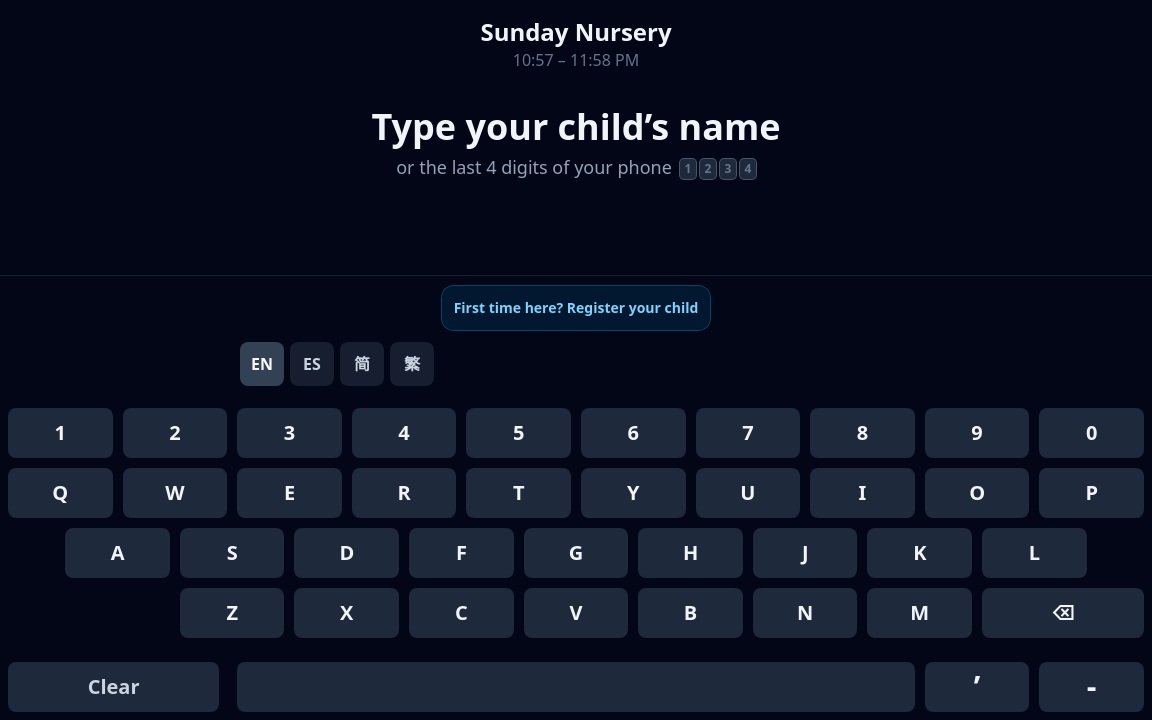
the silent sweep for somebody the cached roster does not hold › sweeps at once for four digits, which are finished by construction
Press the mouse on the button "9" at (977, 433), box [925,408,1029,458]
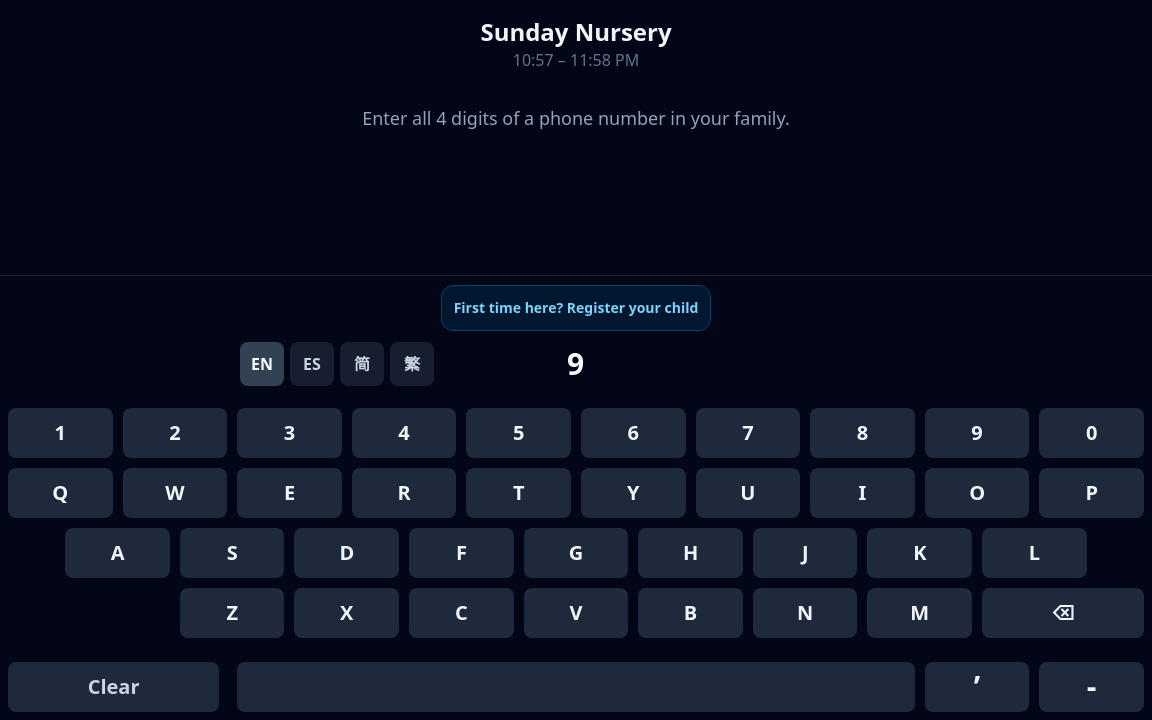
Press the mouse on the button "9" at (977, 433), box [925,408,1029,458]
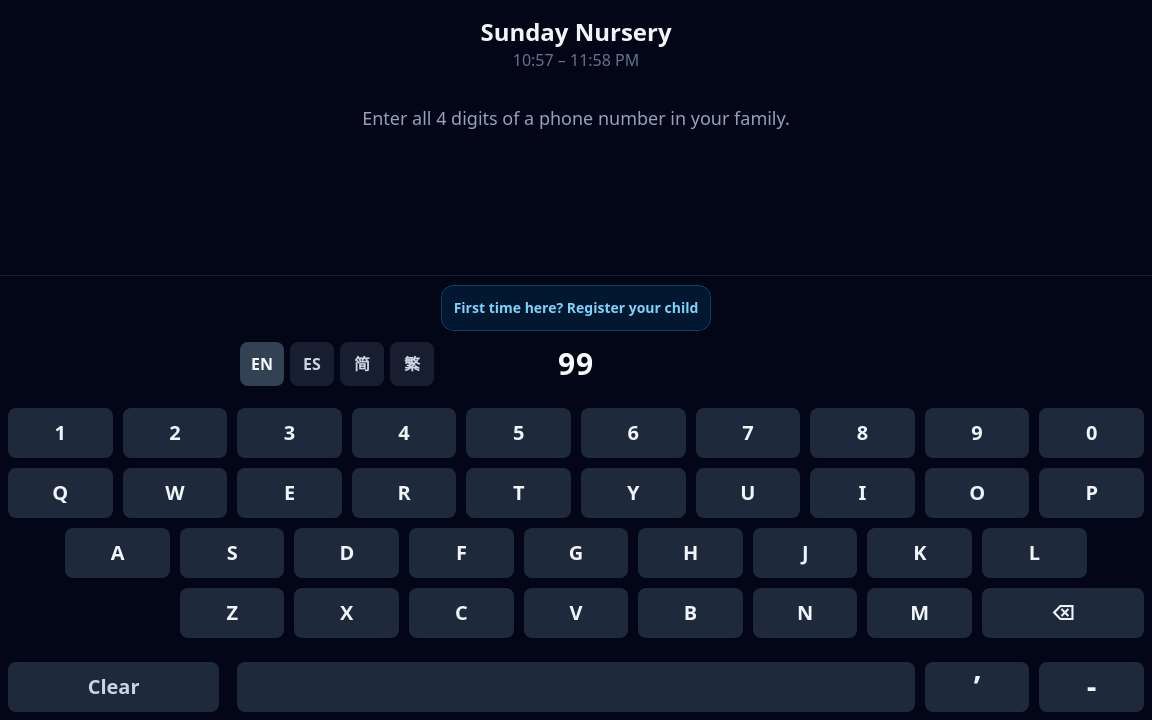
Press the mouse on the button "1" at (60, 433), box [8,408,113,458]
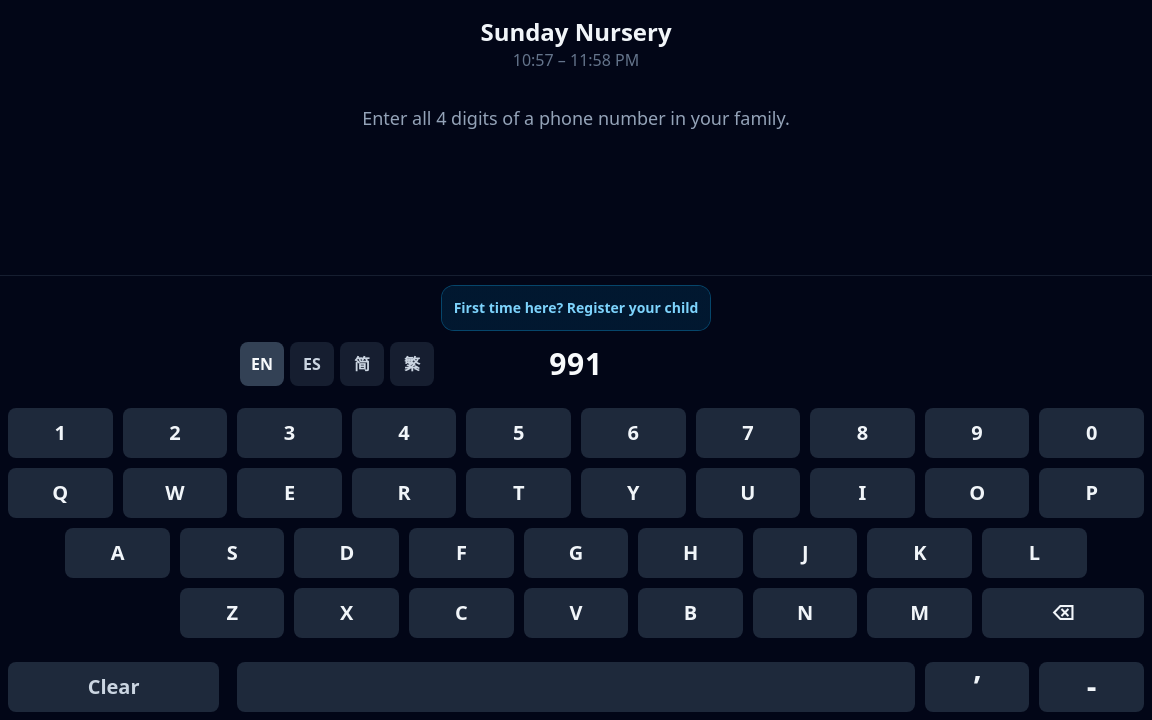
Press the mouse on the button "1" at (60, 433), box [8,408,113,458]
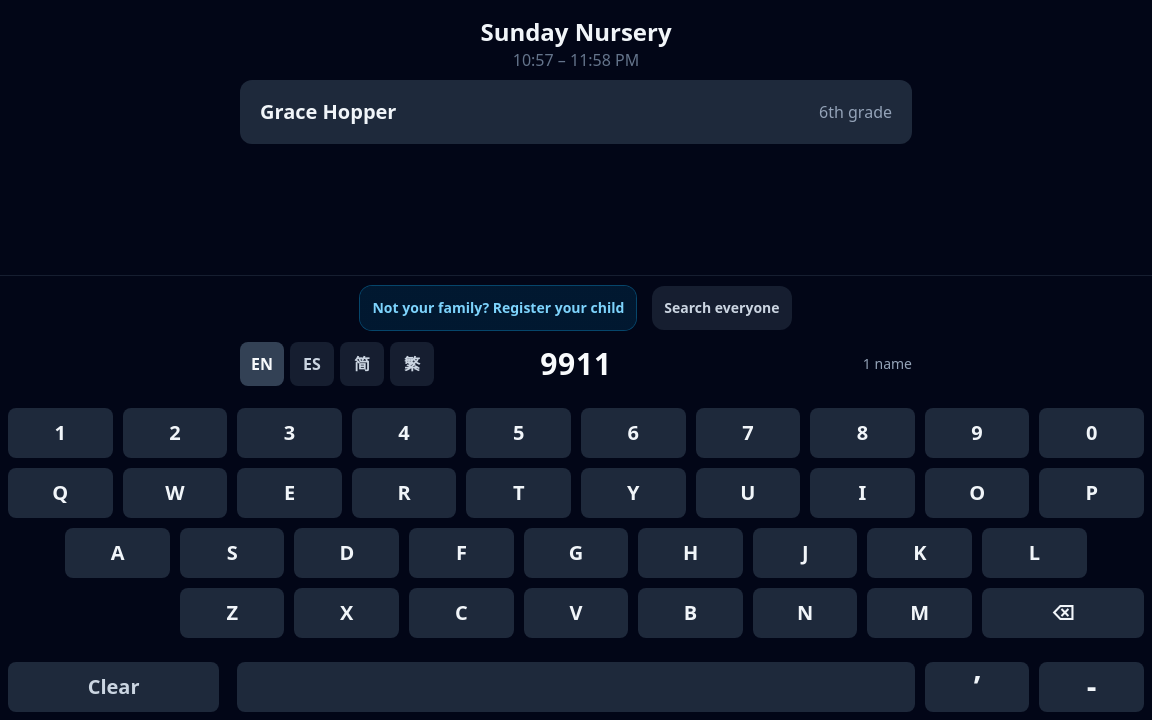
Now the text "Grace Hopper" is shown, box [260,98,396,126]
